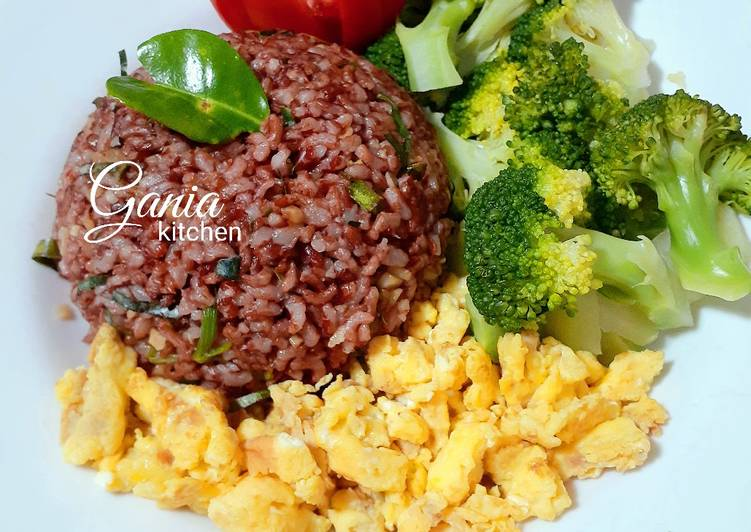Nasi Merah: (61, 50, 448, 406)
